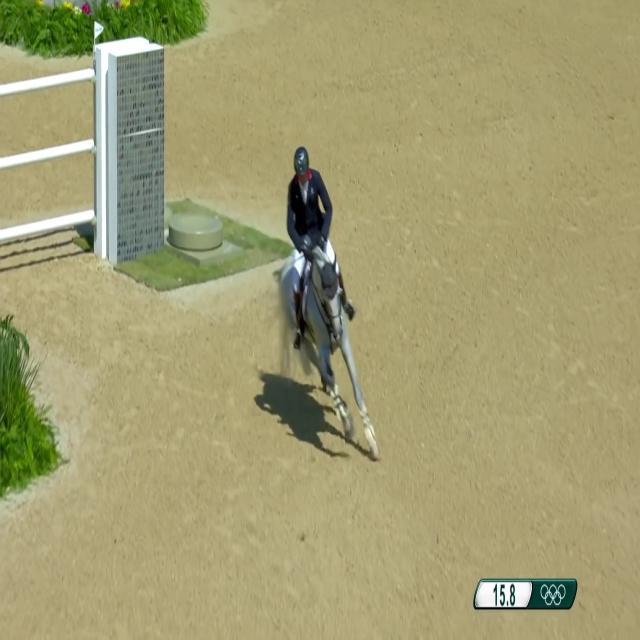Horse Rider: (276, 106, 334, 292)
Horse Running: (265, 231, 379, 459)
